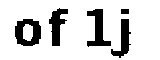1: (82, 7, 114, 49)
f: (47, 6, 74, 51)
j: (111, 7, 136, 59)
o: (10, 17, 42, 49)
